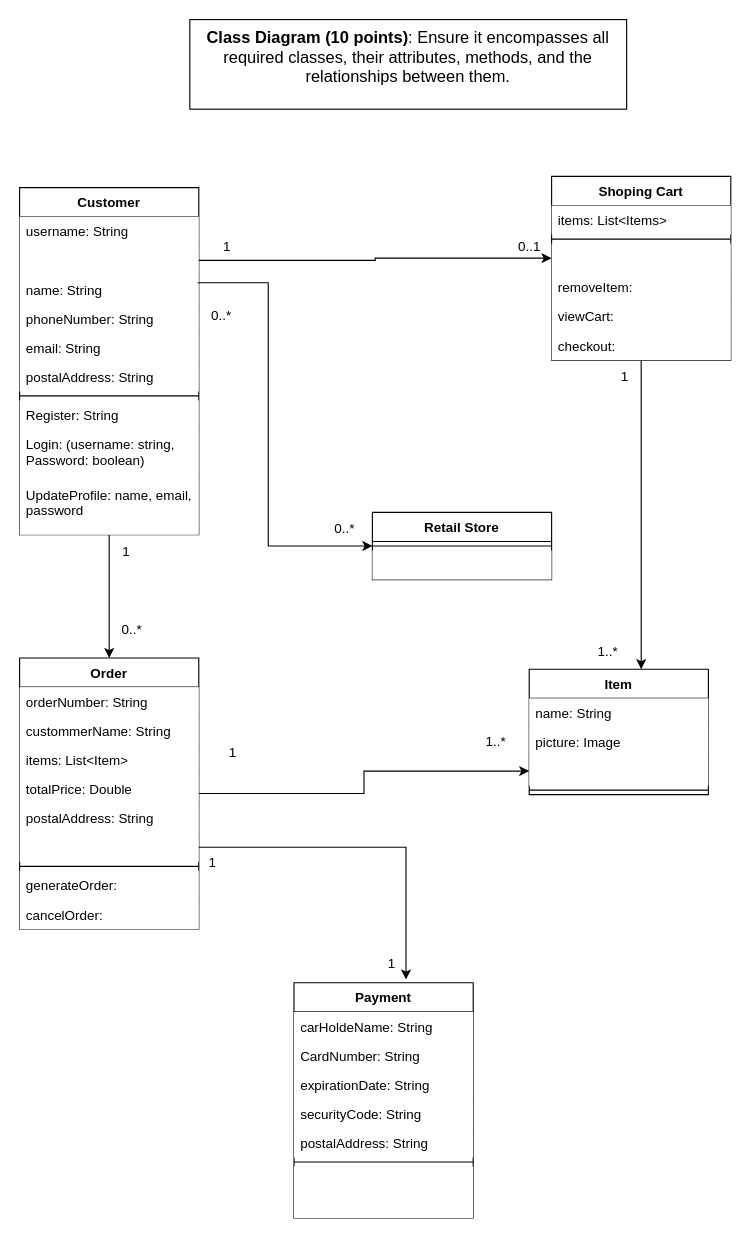
The diagram is 750 pixels wide and 1241 high, and some of its shapes have lost their labels. The centre of each missing label's shape, as x and y in pixels:
addItem:: (x=640, y=257)
cancelOrder: orderNumber: (x=461, y=564)
password: String: (x=108, y=259)
payment: Payment: (x=108, y=846)
price: Double: (x=618, y=770)
processPayment(order: order): Boolean: (x=383, y=1191)
